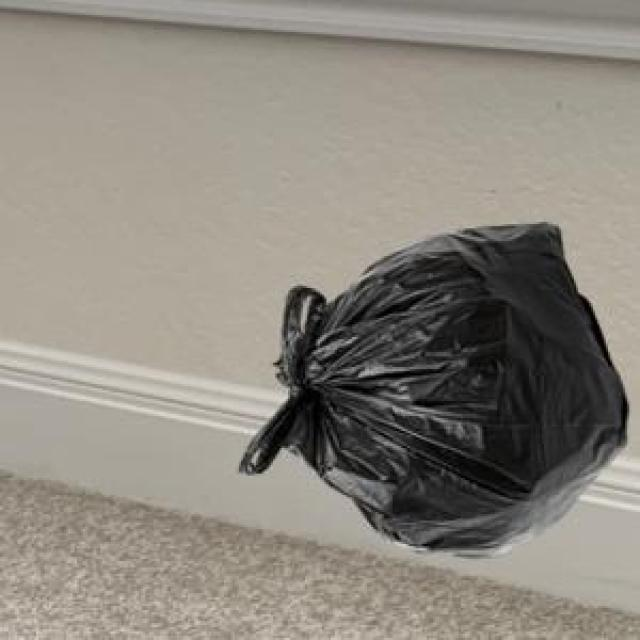waste: (239, 222, 626, 548)
